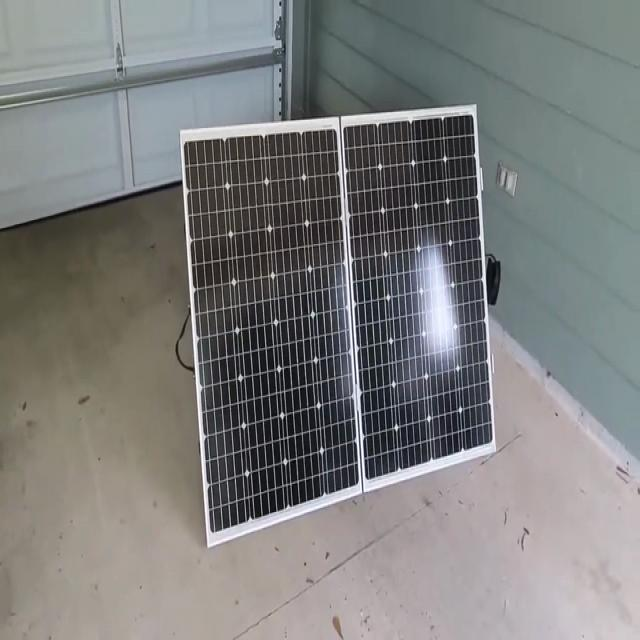Normal Solar Panel: (181, 105, 496, 547)
